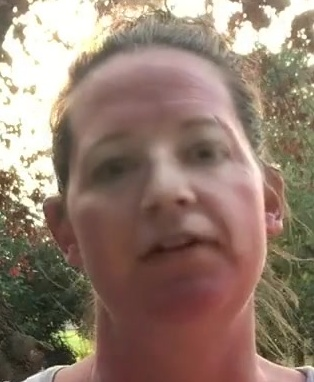eb_f: (81, 111, 240, 186)
